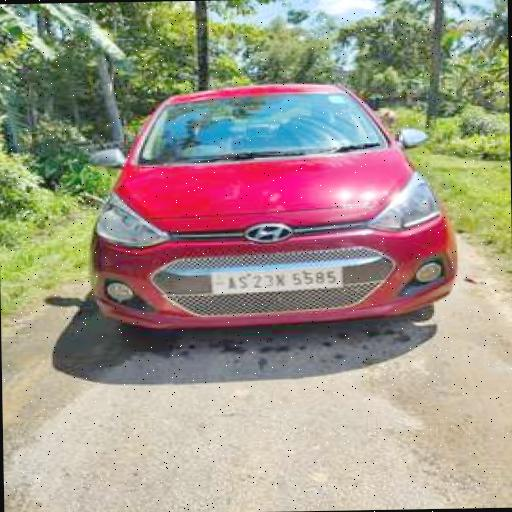license_plate`: (210, 265, 340, 290)
